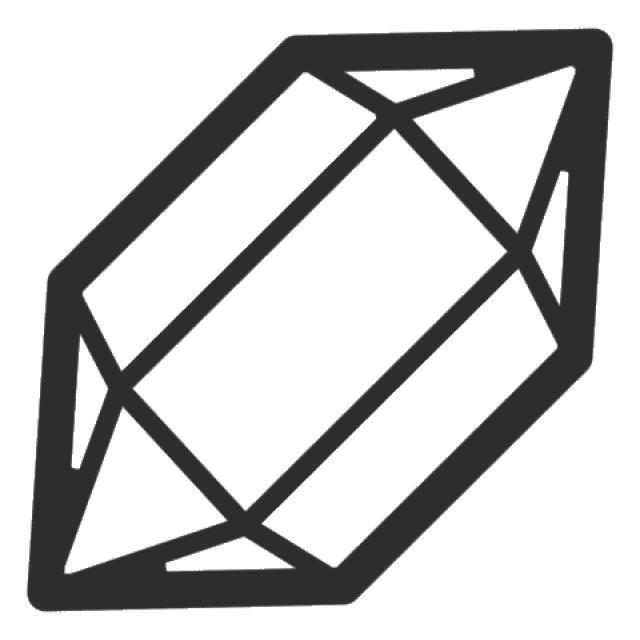crystal: (17, 23, 620, 622)
